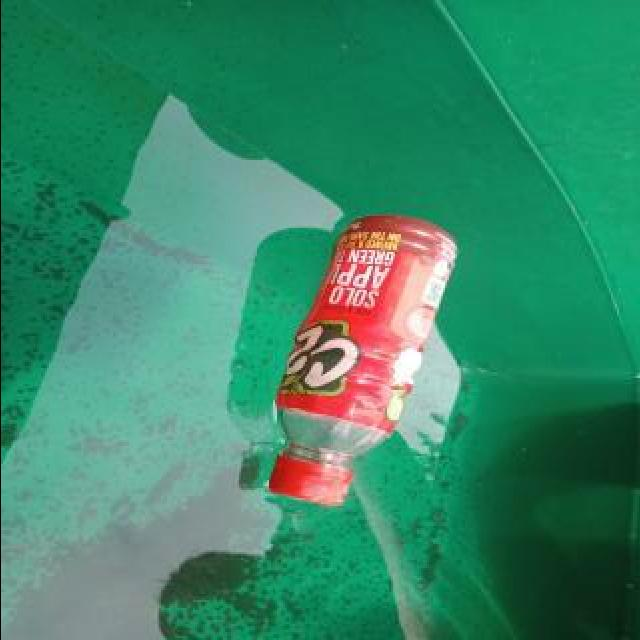Bottle: (264, 212, 458, 510)
